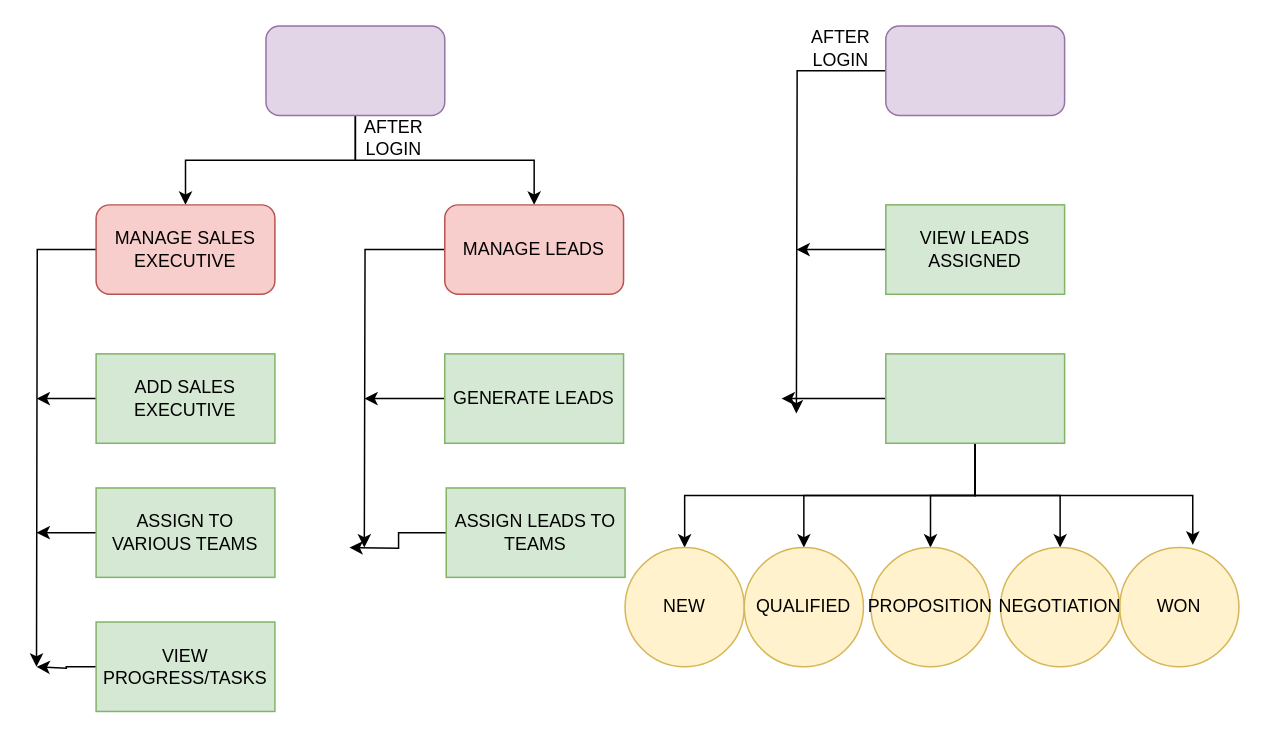
The diagram is 1265 pixels wide and 738 high, and some of its shapes have lost their labels. The centre of each missing label's shape, as x and y in pixels:
ADMIN: [354,70]
MANAGE THORUGH 5 STAGES OF LEADS: [974,397]
SALES EXECUTIVE: [974,70]
